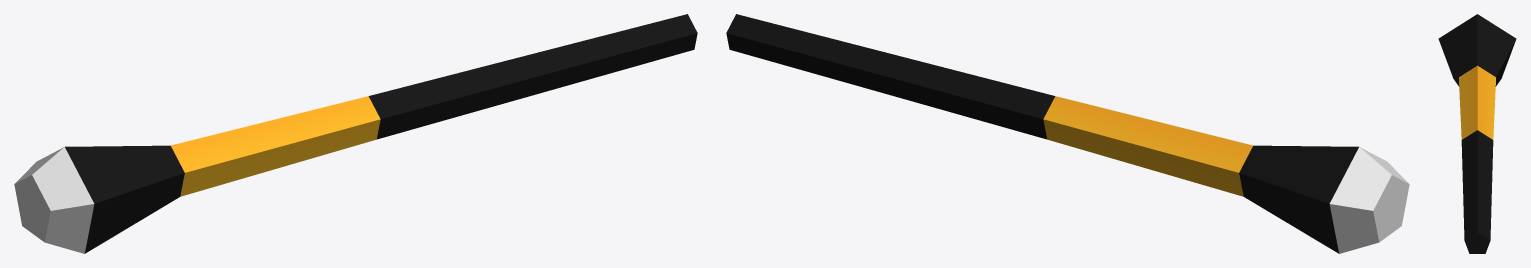
The model's file is pennello7.fbx.
3 views of the same model, side by side, from view 1: azimuth 30°, elevation 25°; view 2: azimuth 150°, elevation 25°; view 3: azimuth 270°, elevation 25° (orthographic). The views are drawn at different scales.
Parts seen in each view (by area): view 1: pennello7; view 2: pennello7; view 3: pennello7.
Boxes of the visible parts, box(x1,y1,x2,y2) form: pennello7: box(14, 14, 697, 253); pennello7: box(726, 14, 1409, 253); pennello7: box(1438, 14, 1516, 253).
Size of the model in its own units: 0.1681 by 0.0232 by 0.0256.
